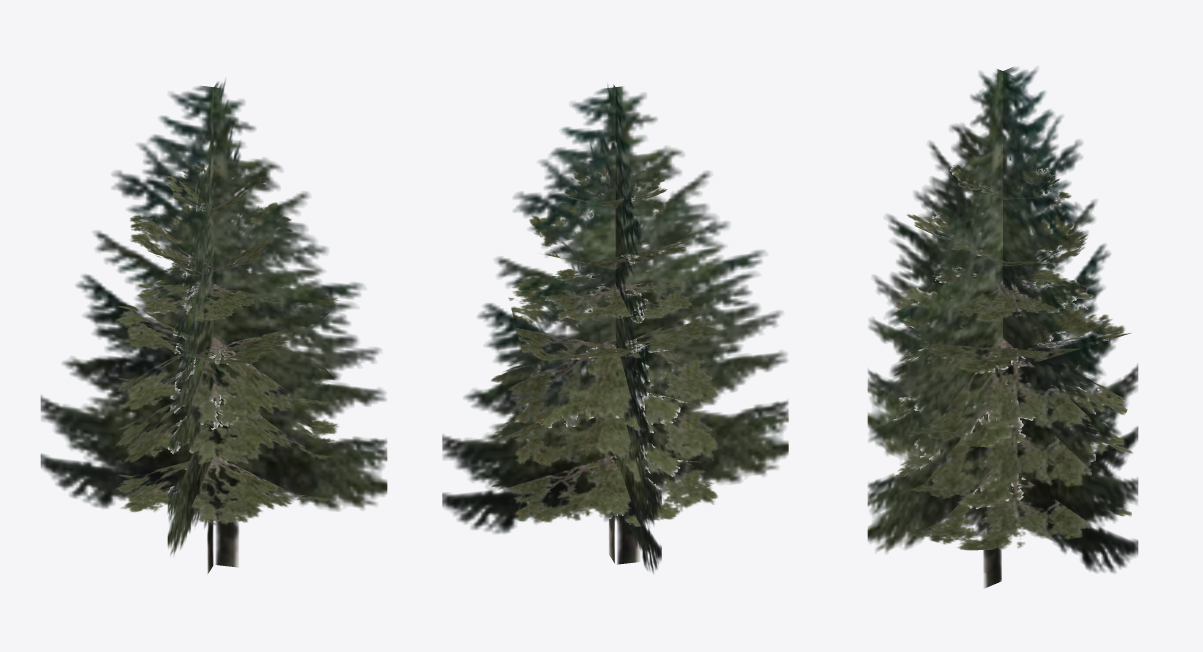
Rendered from forest-road-tree-b.glb.
3 views of the same model, side by side, from view 1: azimuth 30°, elevation 25°; view 2: azimuth 150°, elevation 25°; view 3: azimuth 270°, elevation 25° (orthographic). The views are drawn at different scales.
Visible parts, largest first — view 1: Plane061; view 2: Plane061; view 3: Plane061.
Part boxes in pixels (x1,y1,x2,y2): Plane061: (40, 80, 387, 574); Plane061: (442, 84, 788, 573); Plane061: (867, 67, 1138, 588).
Size of the model in its own units: 4.76 by 7.2 by 4.76.
Materials: 1 (1 with a texture image).
